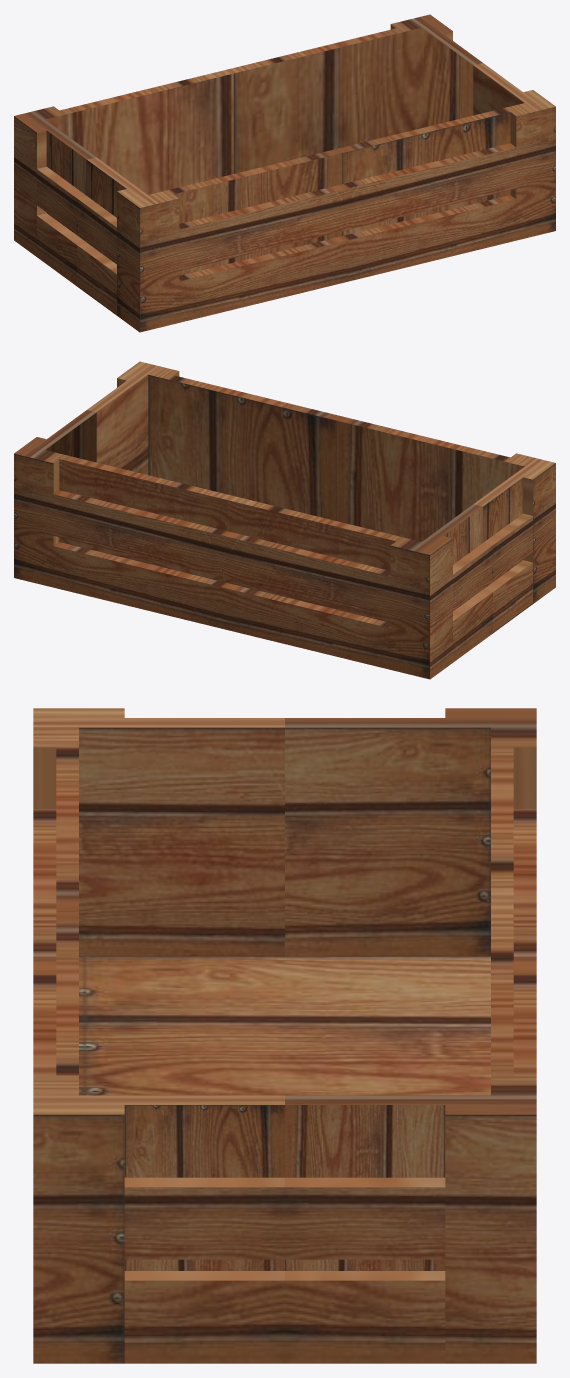
Rendered from box_buah.fbx.
3 renders of one model, top to bottom at view 1: azimuth 30°, elevation 25°; view 2: azimuth 150°, elevation 25°; view 3: azimuth 270°, elevation 25°, orthographic. The views are drawn at different scales.
Visible parts, largest first — view 1: box; view 2: box; view 3: box.
Part boxes in pixels (<box>): box: <box>14,14,555,332</box>; box: <box>14,361,555,679</box>; box: <box>33,708,536,1363</box>.
Size of the model in its own units: 67.2 by 19.2 by 35.2.
